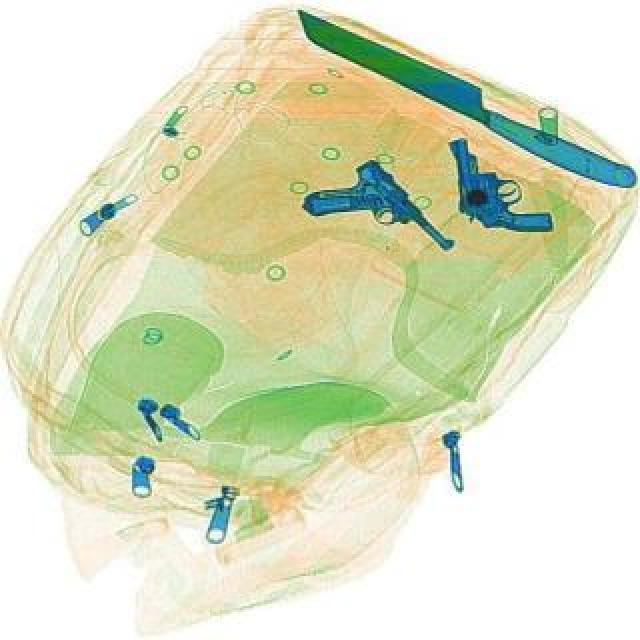gun: (300, 150, 460, 302), (444, 126, 560, 250)
knife: (284, 4, 640, 200)
